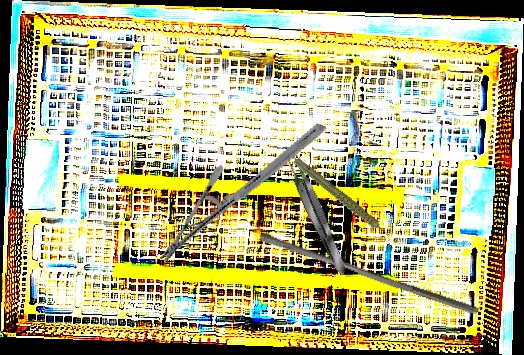Handpiece: (292, 141, 393, 260)
Needle Holder: (157, 87, 328, 298)
Pusher: (255, 231, 484, 316)
Tissue Forceps: (282, 152, 351, 278)
